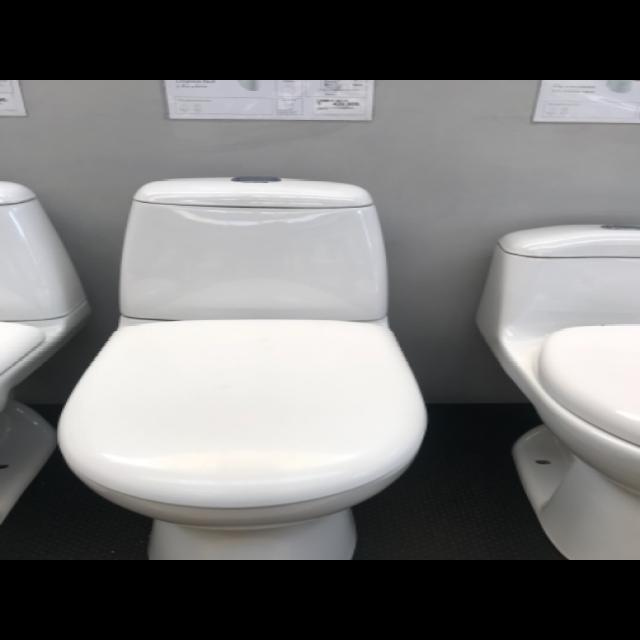toilet: (56, 175, 428, 560), (474, 223, 638, 560)
